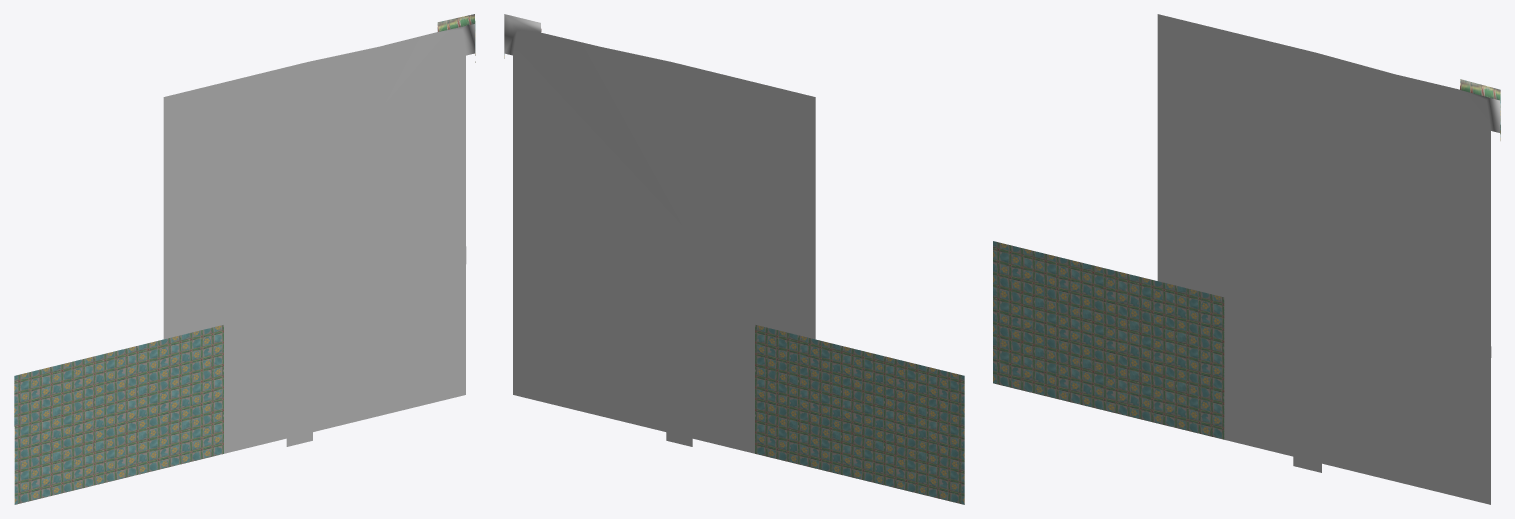
File: FloorMain.fbx
3 renders of one model, left to right at view 1: azimuth 30°, elevation 25°; view 2: azimuth 150°, elevation 25°; view 3: azimuth 330°, elevation 25°, orthographic. The views are drawn at different scales.
Parts seen in each view (by area): view 1: FloorMain; view 2: FloorMain; view 3: FloorMain.
Boxes of the visible parts, <box> form: FloorMain: <box>14,14,475,504</box>; FloorMain: <box>504,14,964,504</box>; FloorMain: <box>993,14,1500,504</box>.
Size of the model in its own units: 2014 by 1620 by 6.52.
